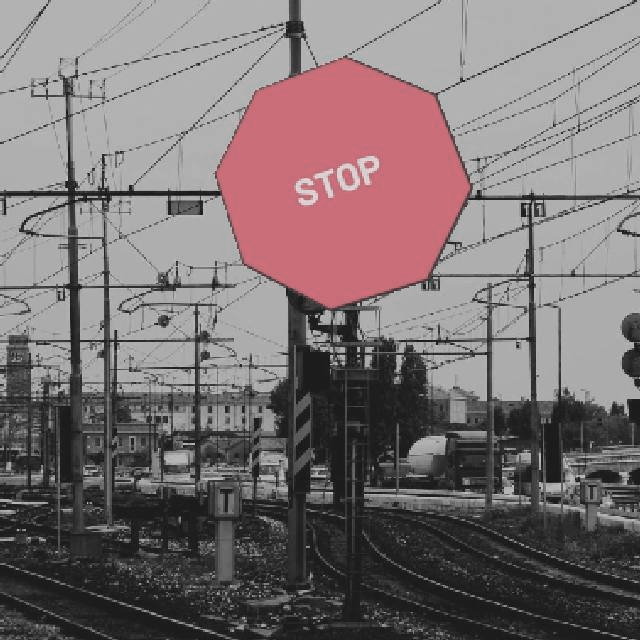STOP: (212, 54, 472, 310)
